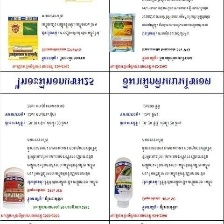insecticide: (6, 14, 40, 61), (107, 9, 137, 54), (0, 165, 25, 210), (112, 156, 133, 207)
